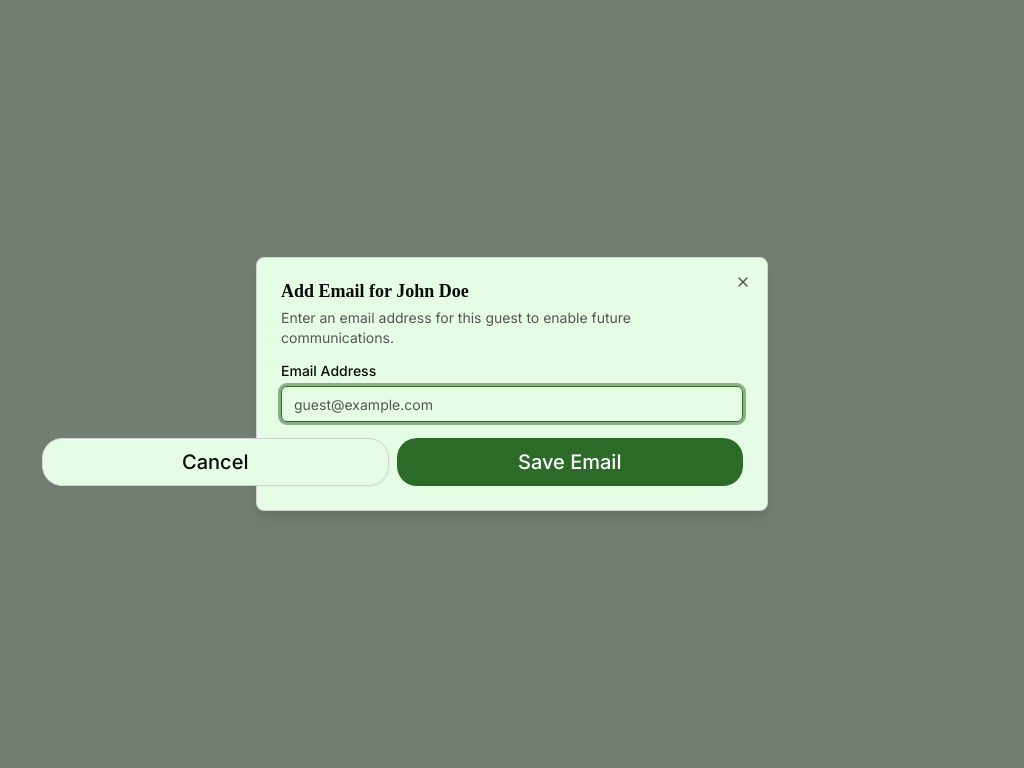
Test: AddEmailModal › validation › shows error for empty email on submit
This screenshot has width=1024, height=768.
Click the button with test id "submit-email-button" at x=570, y=462, box [396,438,743,486]
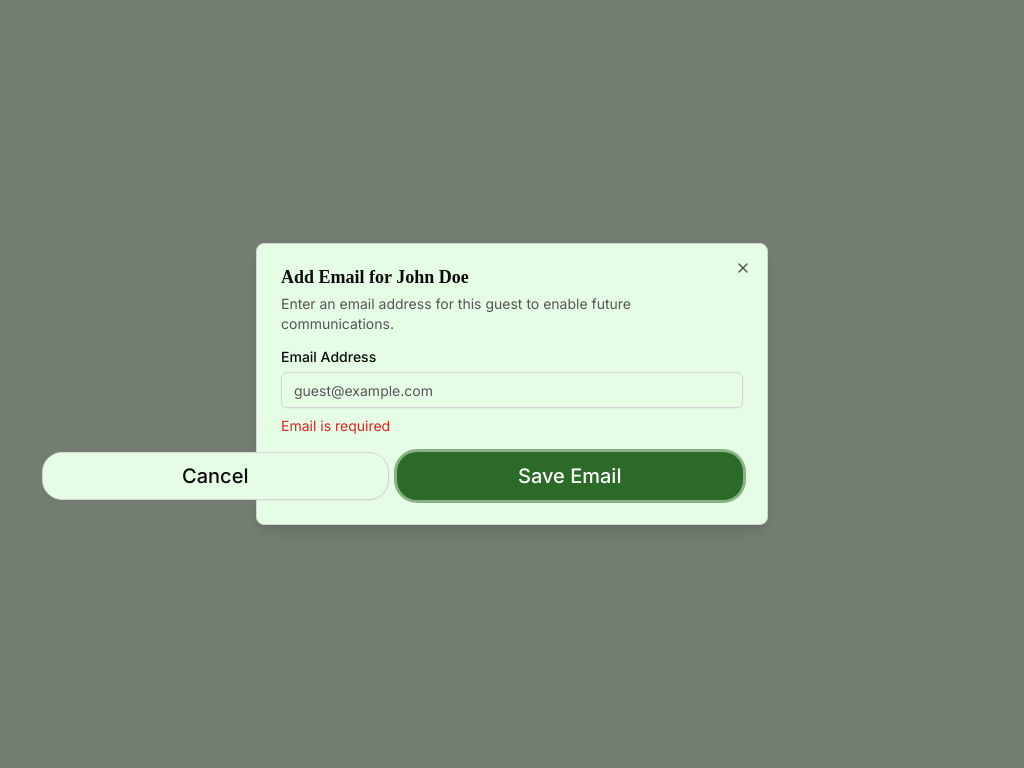
Expected: the text "Email is required" is shown, [281,417,390,434]
